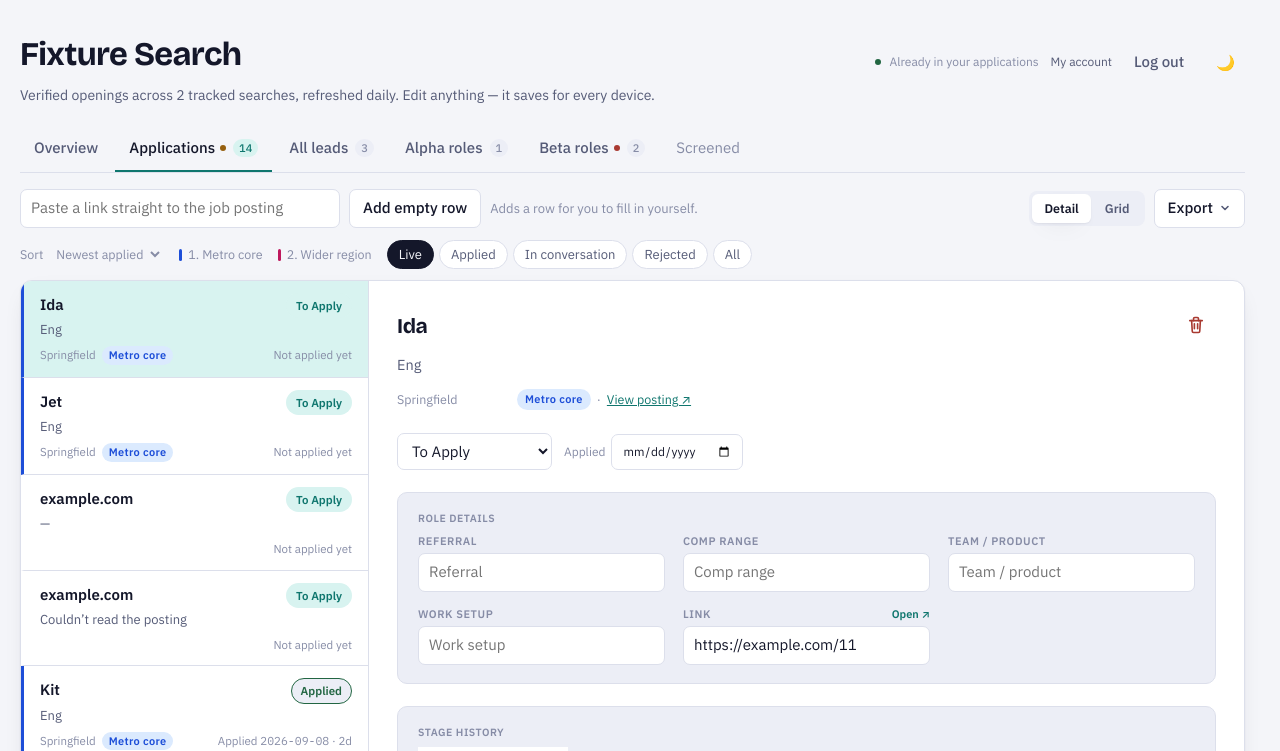
Test: adding an application › selects the new row, and says what happens to a link-only row
This screenshot has width=1280, height=751.
In the field named "Link to a job posting": x=180, y=208 [20,189,340,228], type "https://example.com/new"
Then press Enter
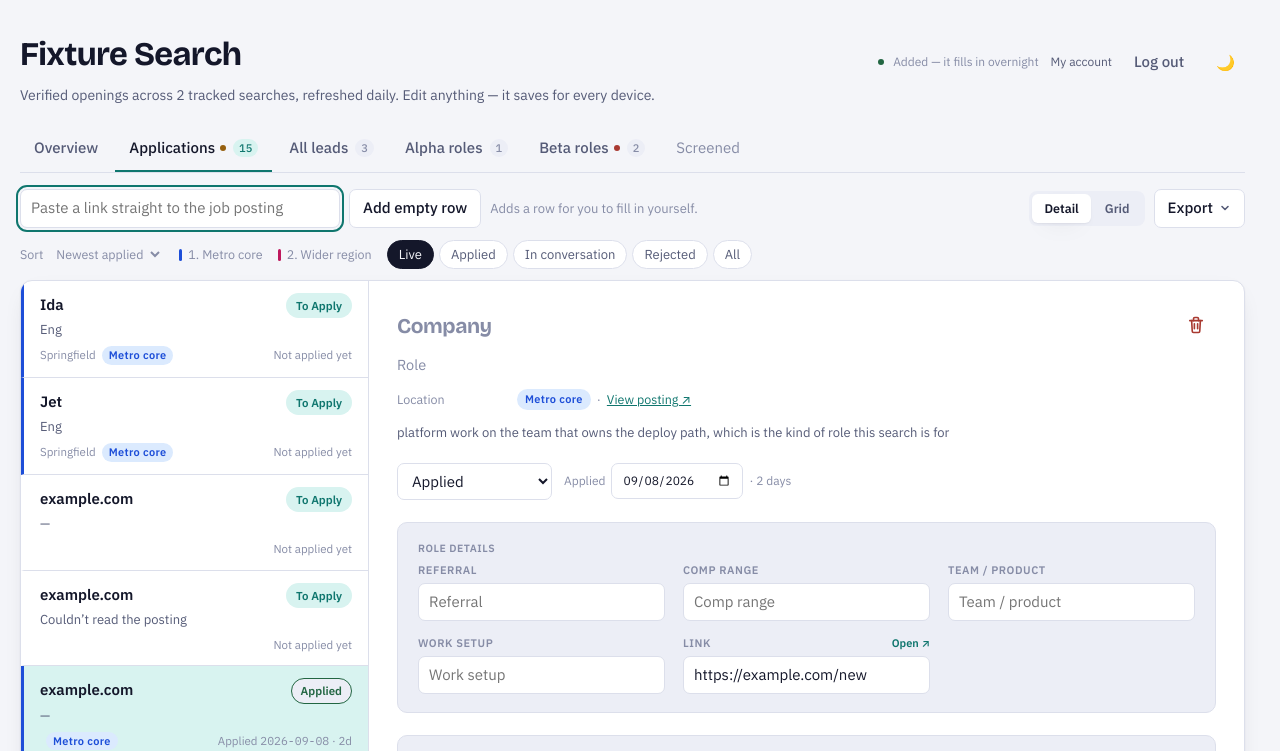
Now the message reads "Added — it fills in overnight", box [893,54,1039,69]
Now the field named "Link" holds "https://example.com/new", box [683,656,930,694]
